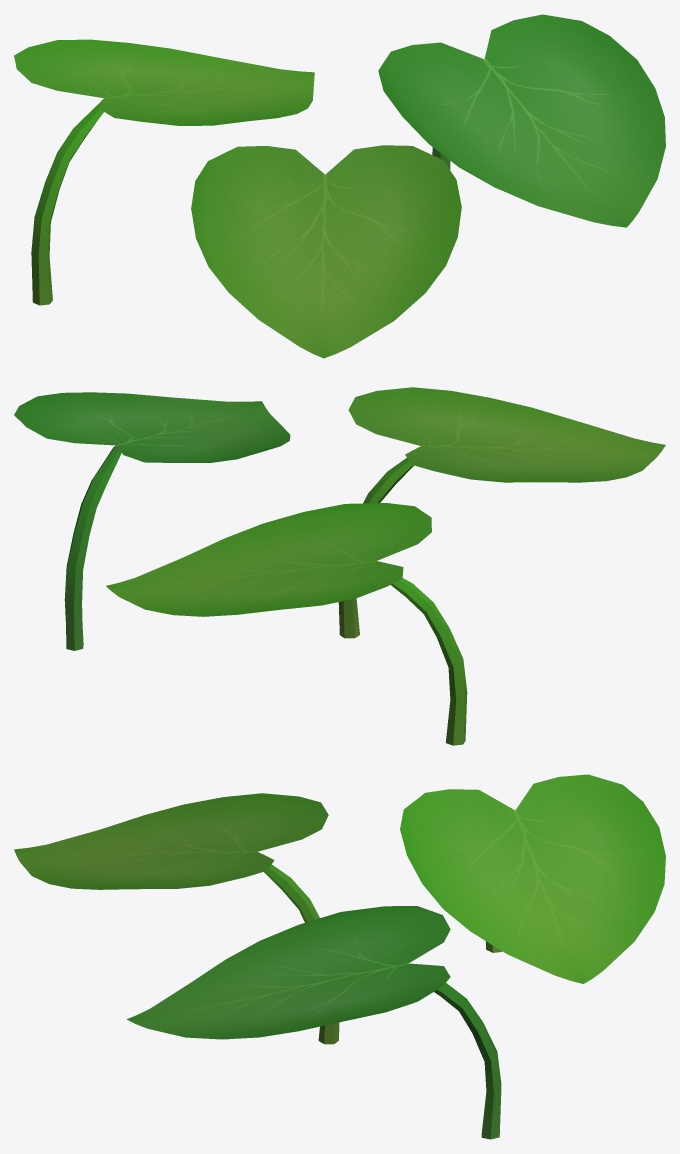
The model's file is env_ogras_export_01.fbx.
3 renders of one model, top to bottom at view 1: azimuth 30°, elevation 25°; view 2: azimuth 150°, elevation 25°; view 3: azimuth 270°, elevation 25°, orthographic. The views are drawn at different scales.
Visible parts, largest first — view 1: ogras2_pPlane1, ogras1_pPlane1, ogras3_pPlane1; view 2: ogras3_pPlane1, ogras2_pPlane1, ogras1_pPlane1; view 3: ogras3_pPlane1, ogras1_pPlane1, ogras2_pPlane1.
Boxes of the visible parts, bbox=[...] form: ogras2_pPlane1: bbox=[191, 145, 461, 358]; ogras1_pPlane1: bbox=[378, 14, 665, 227]; ogras3_pPlane1: bbox=[14, 39, 314, 305]; ogras3_pPlane1: bbox=[106, 503, 467, 745]; ogras2_pPlane1: bbox=[338, 387, 665, 638]; ogras1_pPlane1: bbox=[14, 392, 290, 650]; ogras3_pPlane1: bbox=[400, 774, 665, 983]; ogras1_pPlane1: bbox=[127, 906, 501, 1139]; ogras2_pPlane1: bbox=[14, 793, 339, 1044].
Size of the model in its own units: 16.21 by 5.66 by 18.09.
Materials: 3 (3 with a texture image).
